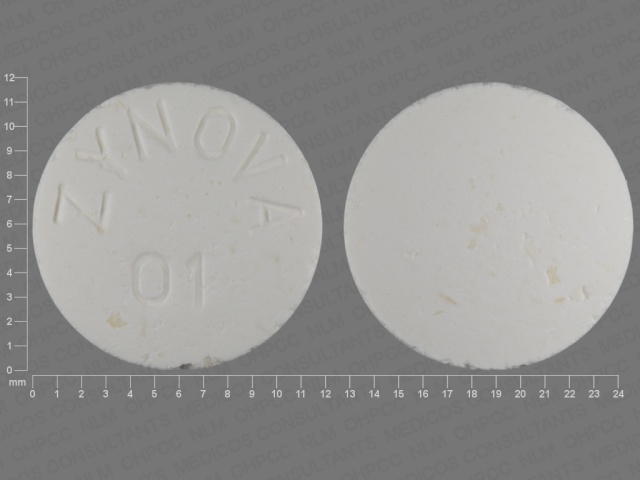0: (129, 246, 175, 306)
1: (181, 246, 208, 312)
A: (244, 187, 308, 241)
N: (121, 96, 183, 166)
O: (192, 100, 237, 163)
V: (234, 125, 288, 193)
Y: (74, 122, 130, 187)
Z: (44, 183, 115, 238)
